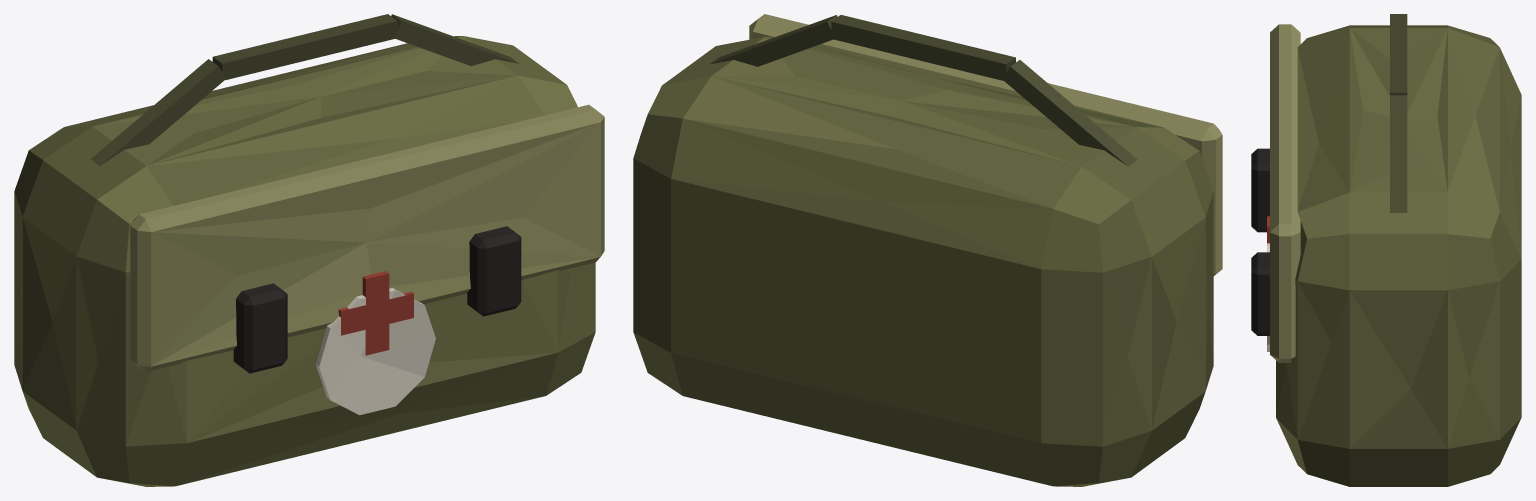
Rendered from medical_kit_polevoy_idle.glb.
The picture shows the model from 3 angles, left to right: view 1: azimuth 30°, elevation 25°; view 2: azimuth 150°, elevation 25°; view 3: azimuth 270°, elevation 25°; orthographic projection. The views are drawn at different scales.
Parts seen in each view (by area): view 1: medical_kit_polevoy_idle; view 2: medical_kit_polevoy_idle; view 3: medical_kit_polevoy_idle.
Part boxes in pixels (bbox=[...]): medical_kit_polevoy_idle: bbox=[14, 14, 604, 486]; medical_kit_polevoy_idle: bbox=[633, 14, 1222, 486]; medical_kit_polevoy_idle: bbox=[1251, 14, 1521, 486].
Size of the model in its own units: 0.35 by 0.2507 by 0.176.
1 material, 1 textured.
